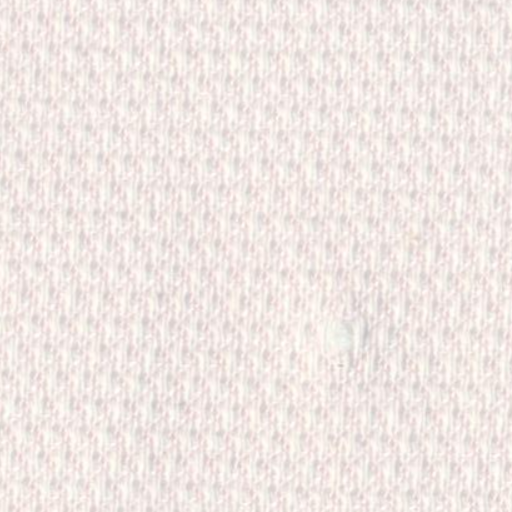MianQiu: (298, 278, 400, 386)
